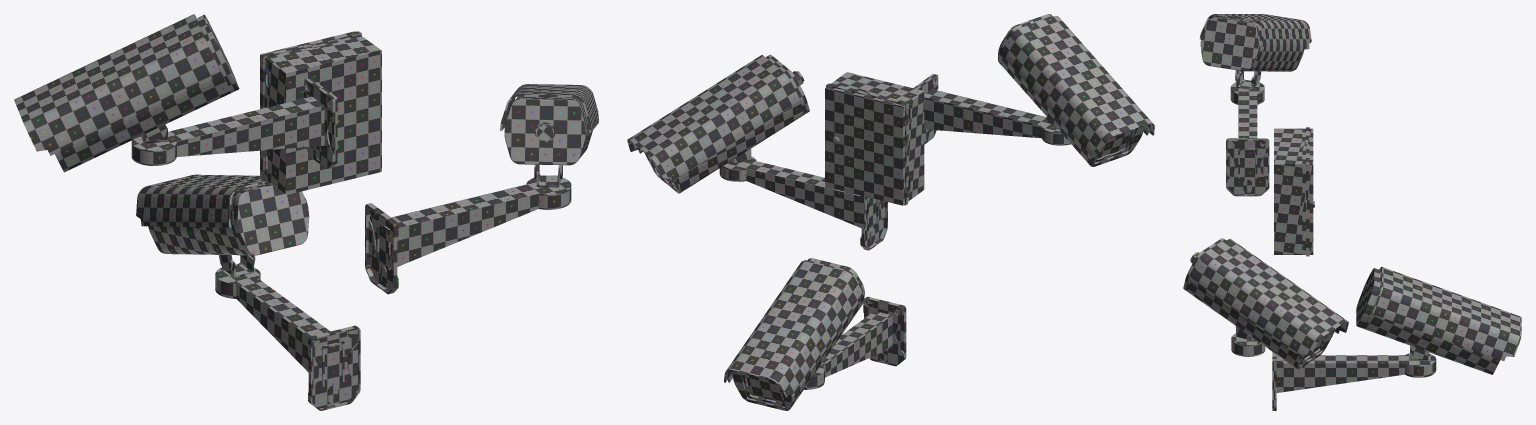
Rendered from gdk_cctv.glb.
3 renders of one model, left to right at view 1: azimuth 30°, elevation 25°; view 2: azimuth 150°, elevation 25°; view 3: azimuth 270°, elevation 25°, orthographic. The views are drawn at different scales.
Visible parts, largest first — view 1: t_lowpoly.023, t_lowpoly, t_lowpoly.017, t_lowpoly.012, t_lowpoly.021, t_lowpoly.011, t_lowpoly.005, t_lowpoly.004, t_lowpoly.013, t_lowpoly.006, t_lowpoly.001, t_lowpoly.019 (+4 smaller); view 2: t_lowpoly.023, t_lowpoly.022, t_lowpoly.021, t_lowpoly.007, t_lowpoly.017, t_lowpoly.012, t_lowpoly, t_lowpoly.005, t_lowpoly.008, t_lowpoly.013, t_lowpoly.001, t_lowpoly.006 (+2 smaller); view 3: t_lowpoly.022, t_lowpoly.021, t_lowpoly.005, t_lowpoly, t_lowpoly.016, t_lowpoly.001, t_lowpoly.020, t_lowpoly.008, t_lowpoly.023, t_lowpoly.007, t_lowpoly.017, t_lowpoly.013 (+3 smaller).
Part boxes in pixels (x1=…): t_lowpoly.023: x1=14, y1=14, x2=221, y2=155; t_lowpoly: x1=267, y1=36, x2=381, y2=194; t_lowpoly.017: x1=131, y1=96, x2=324, y2=165; t_lowpoly.012: x1=376, y1=178, x2=571, y2=270; t_lowpoly.021: x1=136, y1=174, x2=308, y2=227; t_lowpoly.011: x1=504, y1=99, x2=585, y2=165; t_lowpoly.005: x1=215, y1=267, x2=344, y2=386; t_lowpoly.004: x1=233, y1=184, x2=309, y2=255; t_lowpoly.013: x1=55, y1=18, x2=231, y2=172; t_lowpoly.006: x1=308, y1=325, x2=360, y2=410; t_lowpoly.001: x1=148, y1=182, x2=271, y2=255; t_lowpoly.019: x1=365, y1=203, x2=398, y2=294; t_lowpoly.023: x1=1001, y1=16, x2=1154, y2=154; t_lowpoly.022: x1=627, y1=55, x2=800, y2=180; t_lowpoly.021: x1=724, y1=260, x2=864, y2=397; t_lowpoly.007: x1=825, y1=83, x2=908, y2=205; t_lowpoly.017: x1=924, y1=89, x2=1070, y2=145; t_lowpoly.012: x1=719, y1=156, x2=878, y2=230; t_lowpoly: x1=831, y1=72, x2=924, y2=200; t_lowpoly.005: x1=804, y1=311, x2=892, y2=389; t_lowpoly.008: x1=645, y1=101, x2=803, y2=193; t_lowpoly.013: x1=1002, y1=55, x2=1143, y2=166; t_lowpoly.001: x1=733, y1=298, x2=861, y2=410; t_lowpoly.006: x1=863, y1=297, x2=906, y2=366; t_lowpoly.022: x1=1190, y1=238, x2=1348, y2=357; t_lowpoly.021: x1=1371, y1=266, x2=1521, y2=360; t_lowpoly.005: x1=1276, y1=353, x2=1436, y2=392; t_lowpoly: x1=1274, y1=128, x2=1302, y2=254; t_lowpoly.016: x1=1200, y1=17, x2=1260, y2=71; t_lowpoly.001: x1=1363, y1=270, x2=1500, y2=374; t_lowpoly.020: x1=1226, y1=138, x2=1269, y2=196; t_lowpoly.008: x1=1188, y1=280, x2=1334, y2=369; t_lowpoly.023: x1=1199, y1=14, x2=1311, y2=49; t_lowpoly.007: x1=1302, y1=127, x2=1314, y2=256; t_lowpoly.017: x1=1230, y1=82, x2=1264, y2=178; t_lowpoly.013: x1=1218, y1=17, x2=1304, y2=71.
Bounding box in the file's own units: 1.14 × 0.7854 × 0.7302.
1 material, 1 textured.
